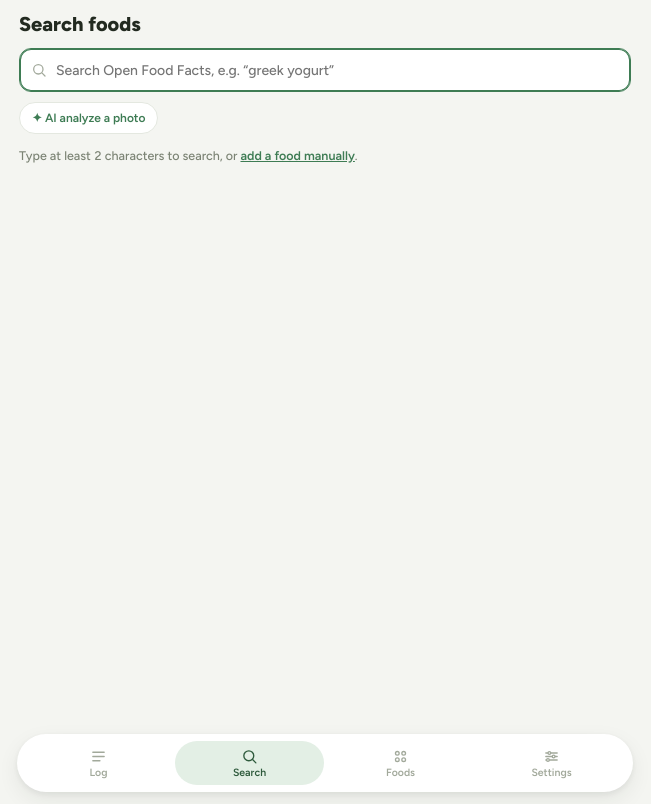
Test: Search escalation round trip › offers a retry after a failed search, which recovers without retyping
Type "granola" into the search field with placeholder "Search Open Food Facts, e.g. “greek yogurt”". click: (325, 70)
box: [19,48,631,92]
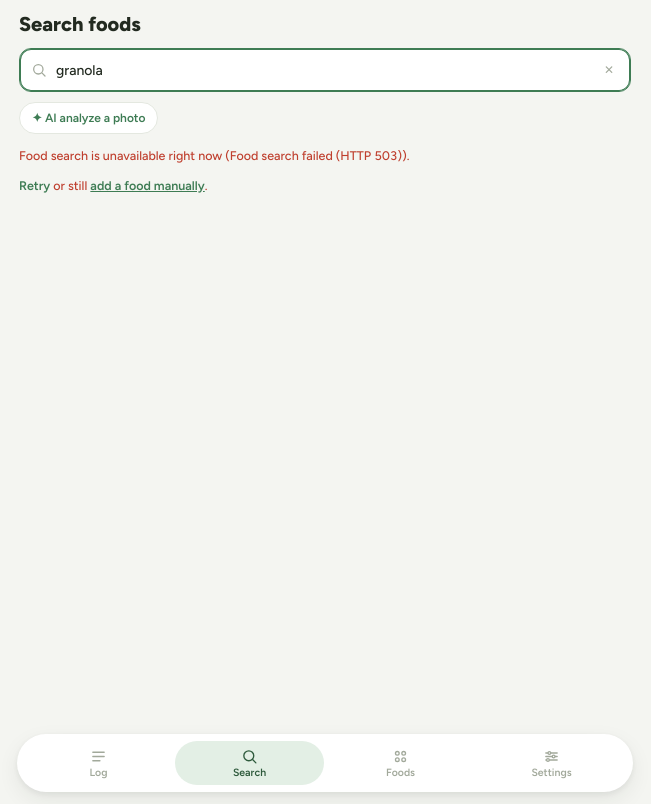
Result: the message shows "unavailable right now" at [19,148,230,162]
Click the button "Retry". click: (35, 186)
box: [19,178,50,194]
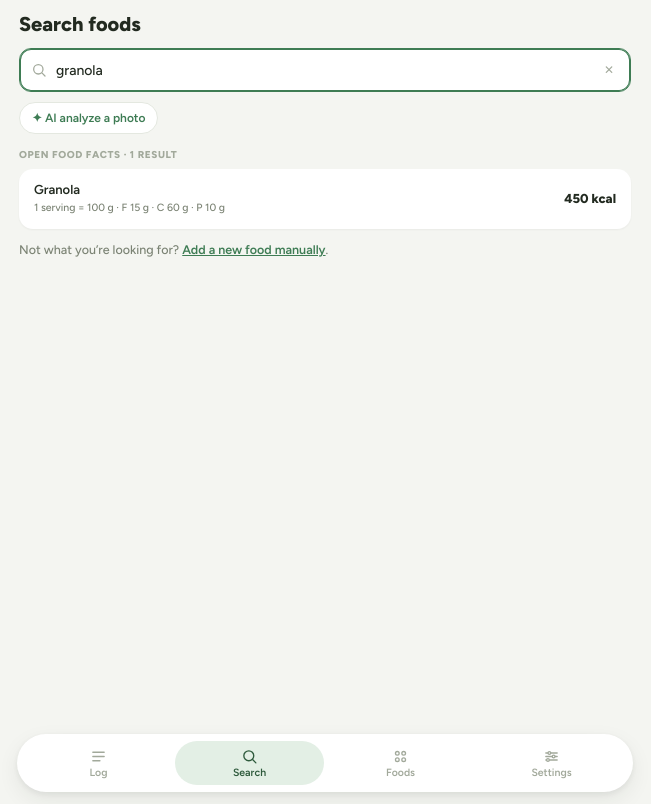
Result: the button "Granola" is shown at [19,169,631,229]
